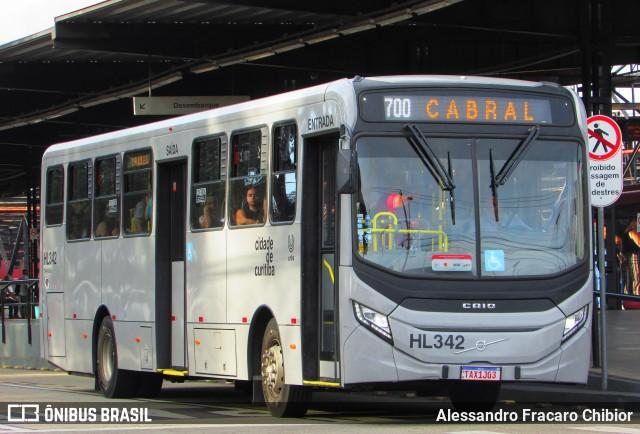CABRAL: (421, 96, 537, 125)
